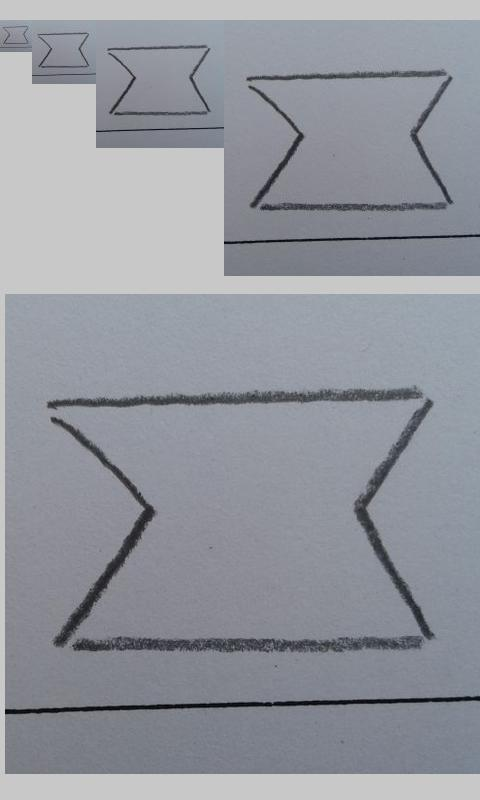edit_text: (46, 389, 433, 653), (244, 71, 454, 211), (107, 45, 211, 117), (37, 32, 89, 68), (3, 26, 29, 45)
